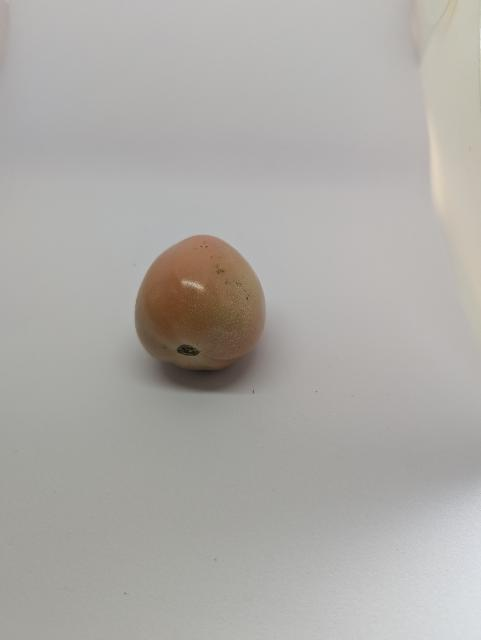turning: (132, 228, 281, 375)
